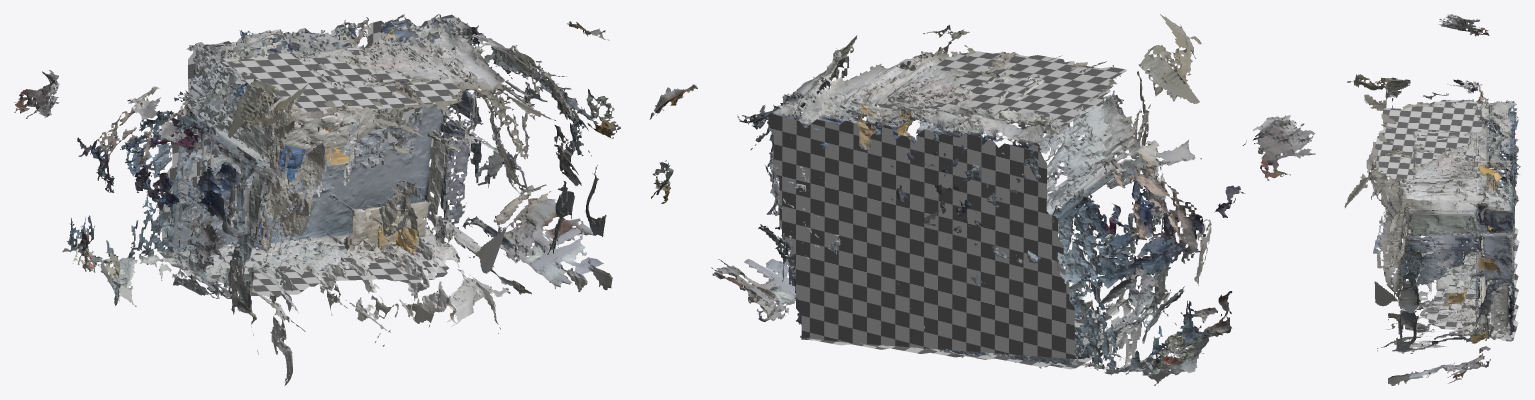
File: Ours_merged.glb
3 views of the same model, side by side, from view 1: azimuth 30°, elevation 25°; view 2: azimuth 150°, elevation 25°; view 3: azimuth 270°, elevation 25° (orthographic). The views are drawn at different scales.
Parts seen in each view (by area): view 1: Mesh_0, planar_mesh; view 2: planar_mesh, Mesh_0; view 3: Mesh_0, planar_mesh.
Boxes of the visible parts, x1,y1,x2,y2 form: Mesh_0: [14, 14, 620, 385]; planar_mesh: [159, 14, 461, 297]; planar_mesh: [768, 51, 1126, 369]; Mesh_0: [649, 14, 1315, 385]; Mesh_0: [1344, 14, 1520, 385]; planar_mesh: [1375, 99, 1519, 341].
Bounding box in the file's own units: 11.23 × 5.66 × 4.15.
Materials: 2 (1 with a texture image).
